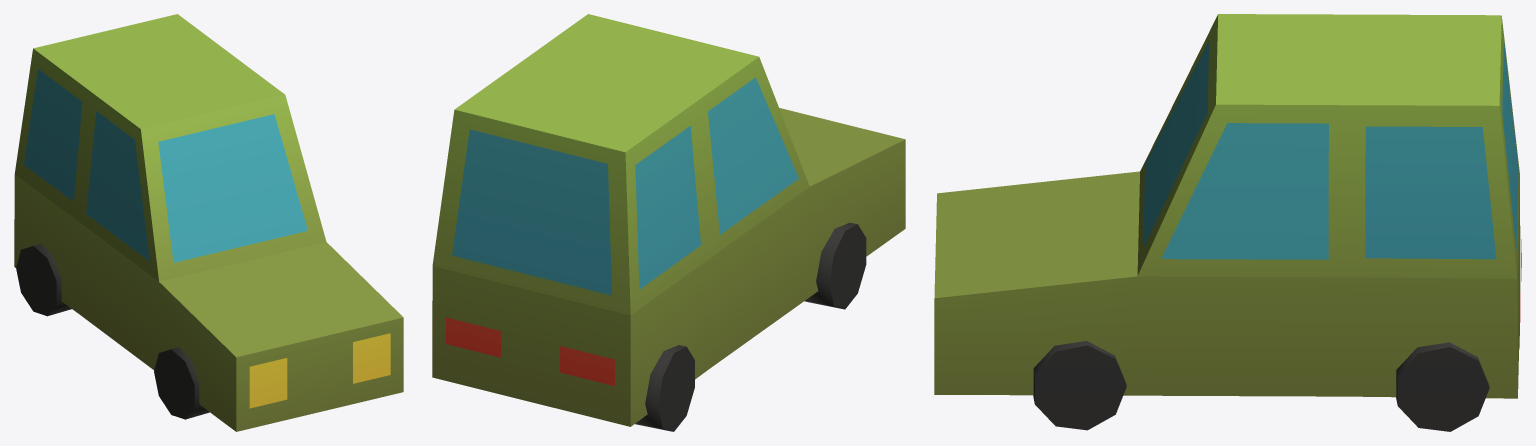
The model's file is Car_3_3.fbx.
The picture shows the model from 3 angles, left to right: view 1: azimuth 30°, elevation 25°; view 2: azimuth 150°, elevation 25°; view 3: azimuth 270°, elevation 25°; orthographic projection. The views are drawn at different scales.
Parts seen in each view (by area): view 1: Car_3_3; view 2: Car_3_3; view 3: Car_3_3.
Boxes of the visible parts, x1=… form: Car_3_3: x1=14, y1=14, x2=403, y2=431; Car_3_3: x1=432, y1=14, x2=905, y2=431; Car_3_3: x1=934, y1=14, x2=1521, y2=431.
Bounding box in the file's own units: 220 × 270 × 456.
